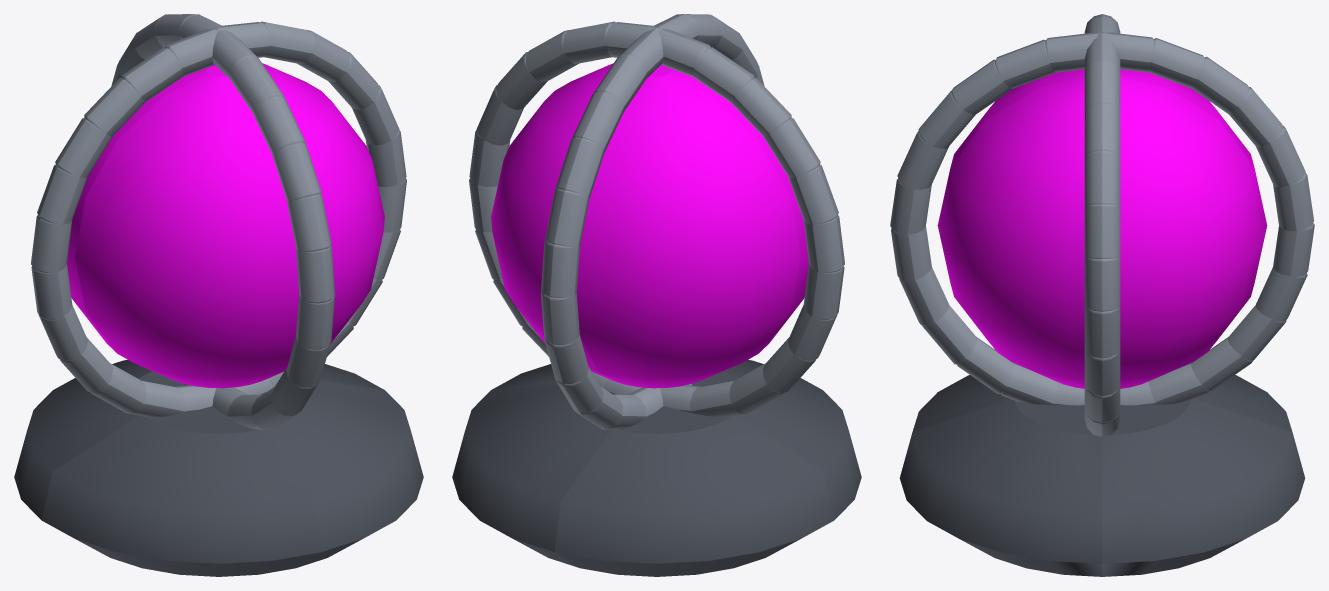
File: objet_science_5.glb
3 renders of one model, left to right at view 1: azimuth 30°, elevation 25°; view 2: azimuth 150°, elevation 25°; view 3: azimuth 270°, elevation 25°, orthographic.
Visible parts, largest first — view 1: science_teinte.012, science_metal_sci_sombre.010, science_metal_sci.006; view 2: science_teinte.012, science_metal_sci_sombre.010, science_metal_sci.006; view 3: science_teinte.012, science_metal_sci_sombre.010, science_metal_sci.006.
Boxes of the visible parts, bbox=[...] form: science_teinte.012: bbox=[67, 63, 384, 388]; science_metal_sci_sombre.010: bbox=[14, 359, 423, 576]; science_metal_sci.006: bbox=[31, 14, 406, 429]; science_teinte.012: bbox=[491, 63, 808, 388]; science_metal_sci_sombre.010: bbox=[452, 359, 861, 576]; science_metal_sci.006: bbox=[469, 14, 844, 429]; science_teinte.012: bbox=[937, 69, 1267, 388]; science_metal_sci_sombre.010: bbox=[899, 375, 1305, 576]; science_metal_sci.006: bbox=[890, 14, 1314, 436].
Size of the model in its own units: 0.1675 by 0.2088 by 0.1675.
